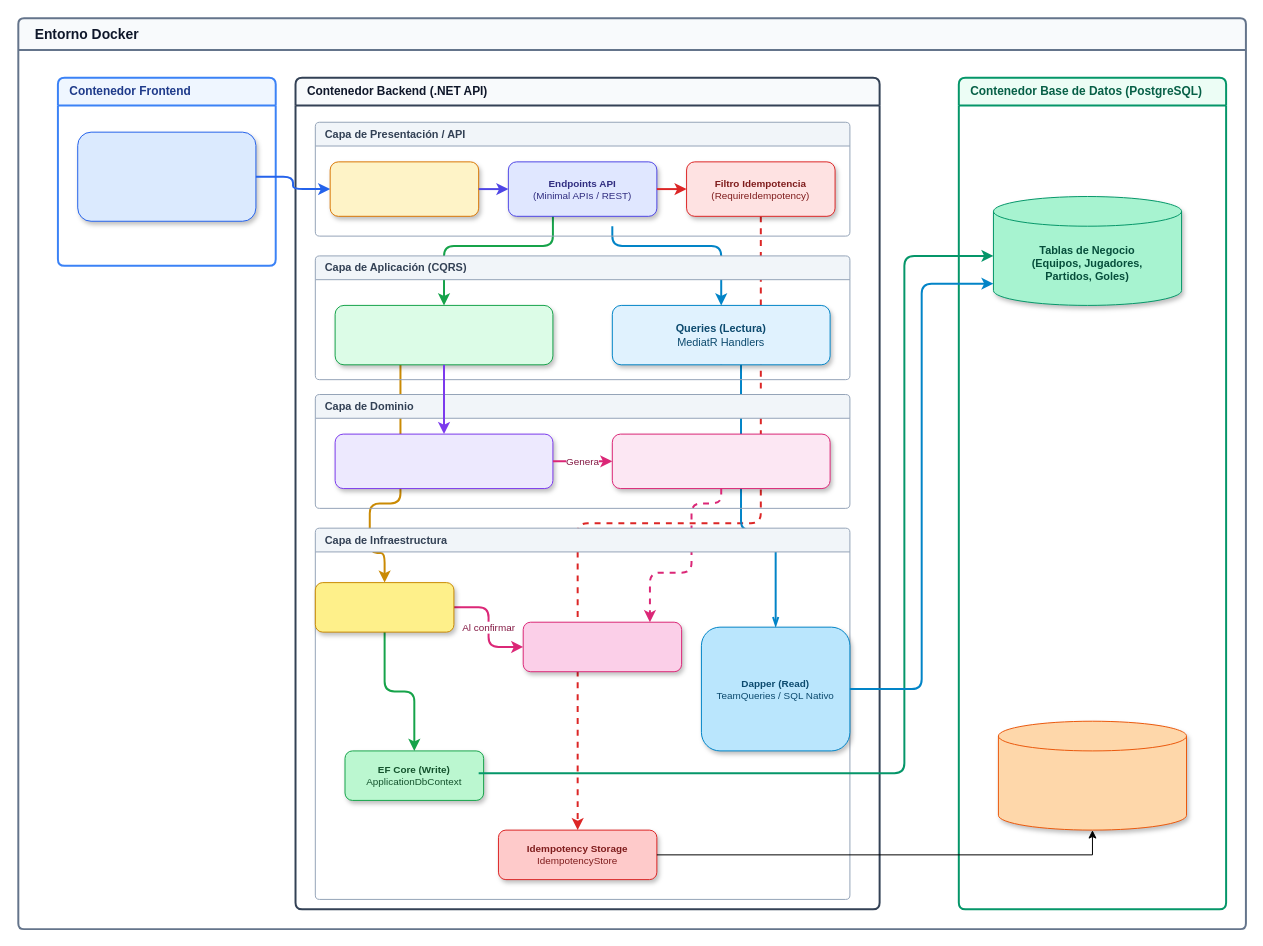
The diagram is 1263 pixels wide and 946 high, and some of its shapes have lost their labels. The shapes that lost their labels are listed below. From the top down, each one's centre as x and y in pixels, then its label:
pixel 167 177: Frontend SPA (React + Vite + TypeScript)
pixel 405 190: Logs & CorrelationId (Middleware)
pixel 444 336: Commands (Escritura) MediatR Handlers
pixel 444 462: Entidades de Negocio Equipo, Jugador, Partido, Gol
pixel 721 462: Eventos de Dominio IDomainEvent
pixel 385 608: Unit of Work (Transaccional)
pixel 603 648: Dispatcher Eventos DomainEventDispatcher
pixel 1092 776: Tabla de Idempotencia (Claves, Rutas, Respuestas previas)
